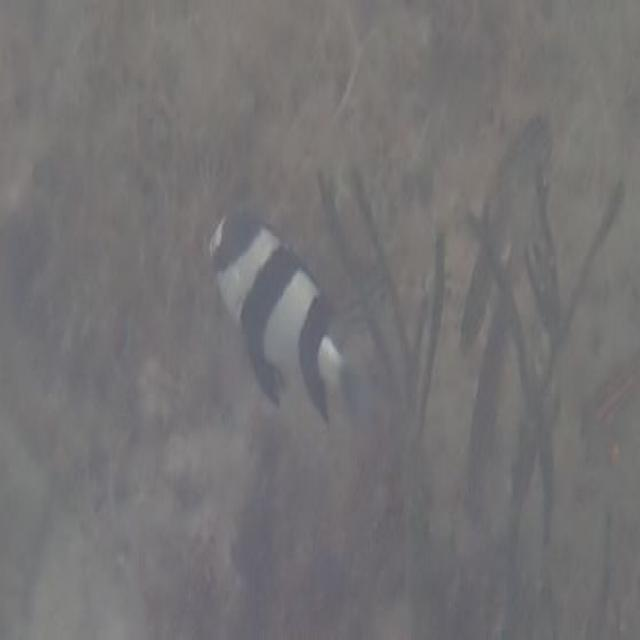Three_striped DasmselFish: (203, 204, 366, 426)
